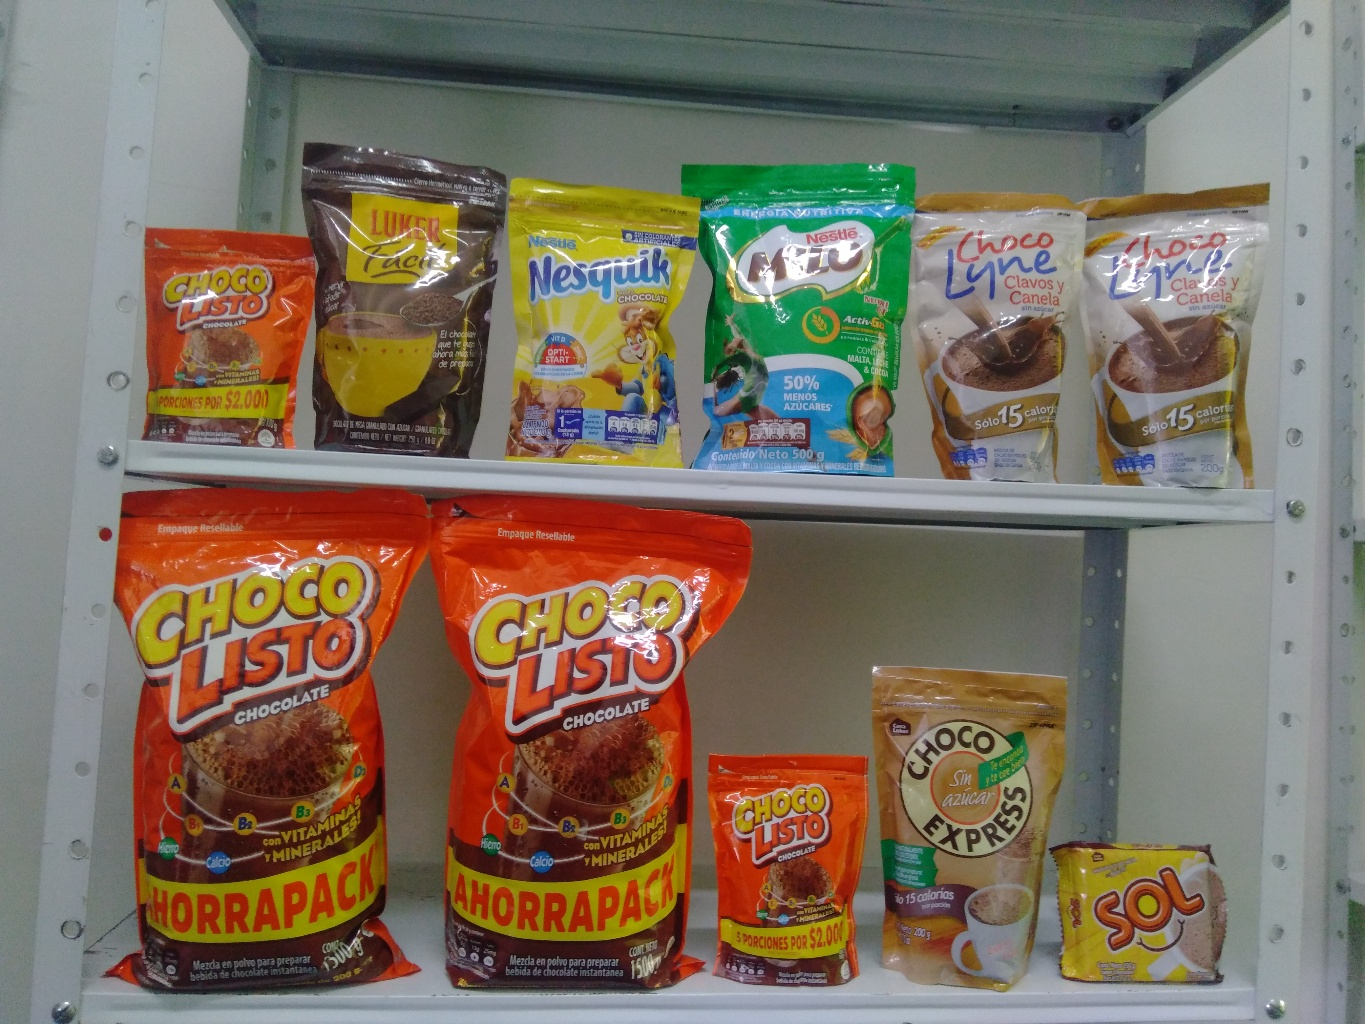COL0170103DYP1,500: (93, 490, 425, 1002)
COL0170205DYP50000: (678, 161, 935, 482)
COL0170303DYP20000: (508, 177, 715, 475)
